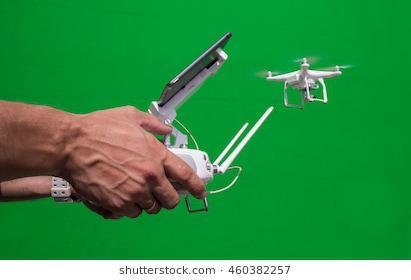drone: (251, 42, 364, 119), (0, 259, 411, 280)
